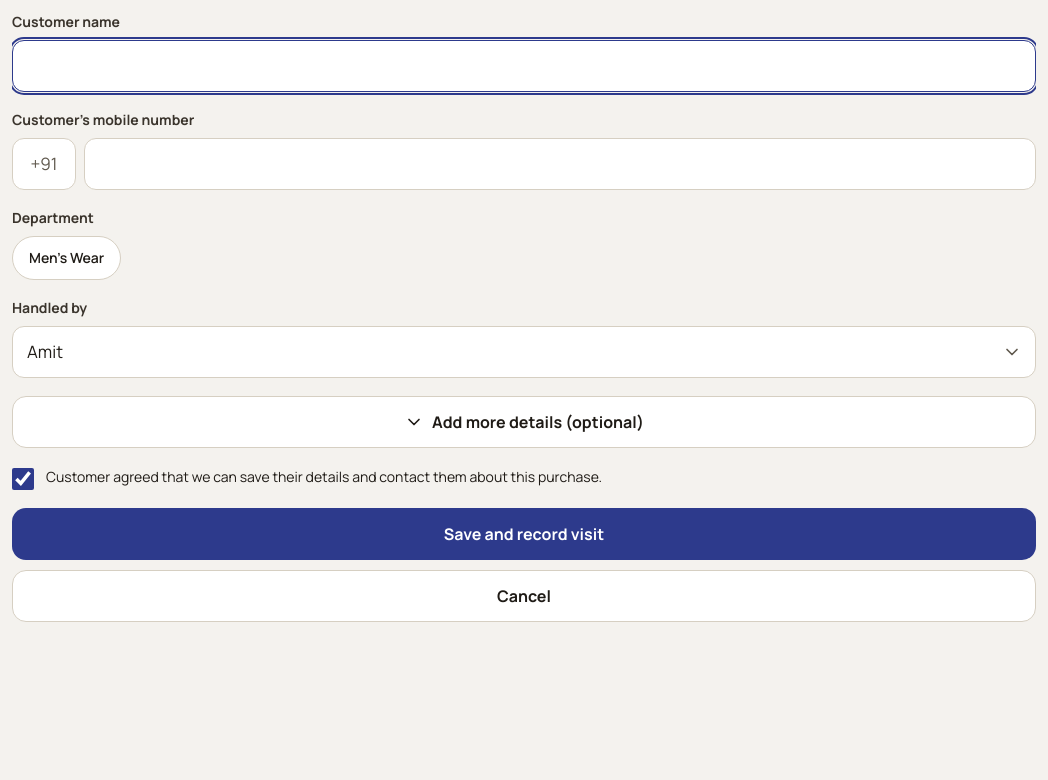
CustomerForm › strips anything that is not a digit as the number is typed (M05.02)
Step 1. Type "98 765-43210" into the field labelled "Customer's mobile number" → (560, 164), box [84,138,1036,190]
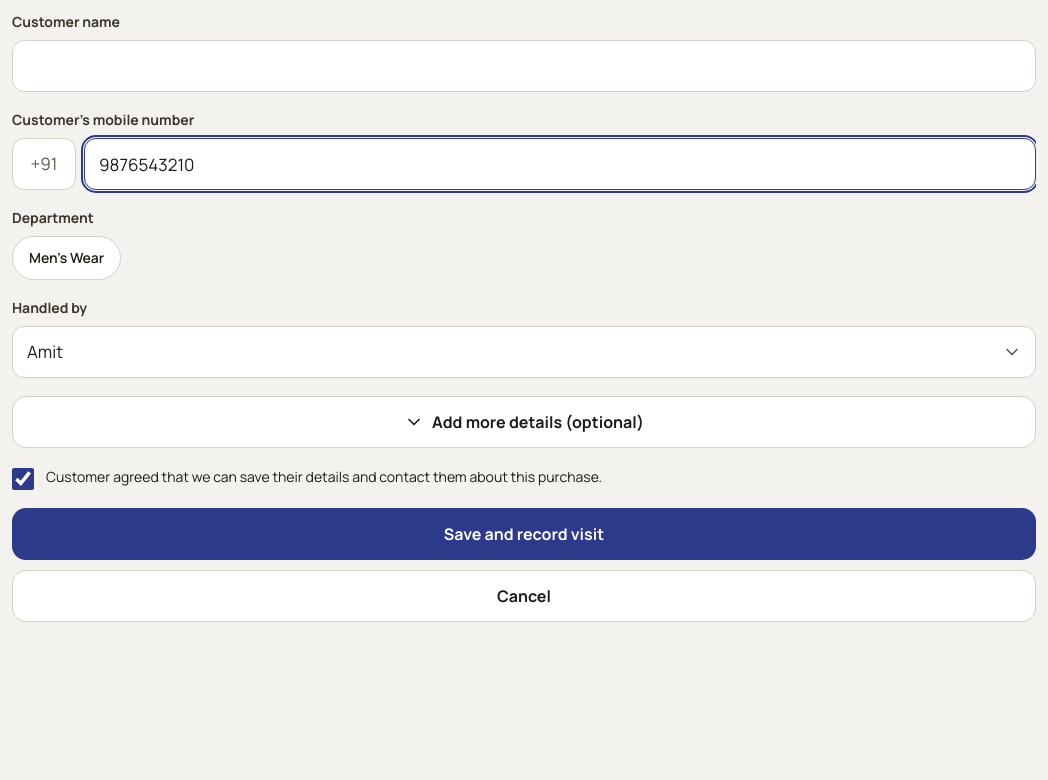
Check: the field labelled "Customer's mobile number" holds "9876543210", box [84,138,1036,190]
